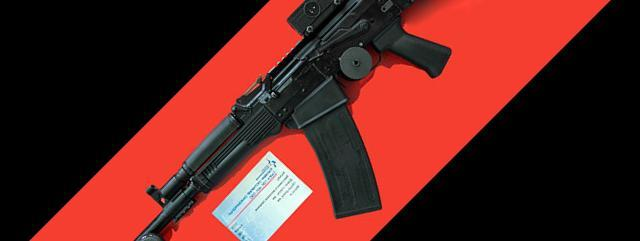larga: (133, 0, 452, 241)
